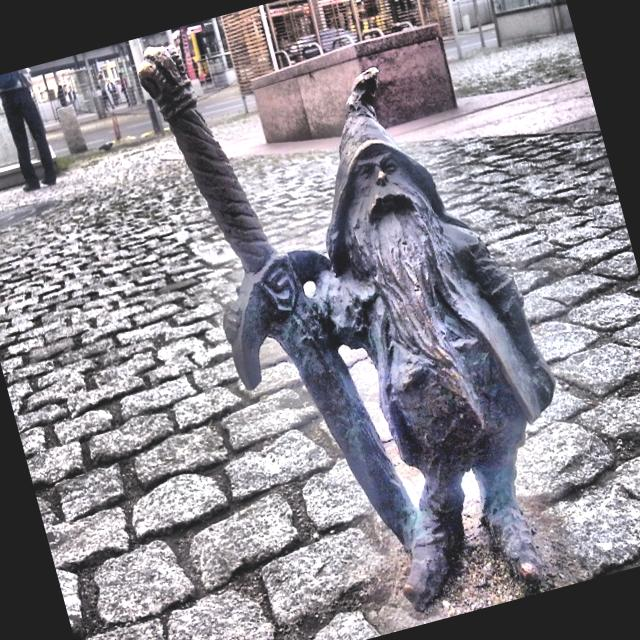Giermek_Grun-Waldek: (138, 48, 555, 612)
